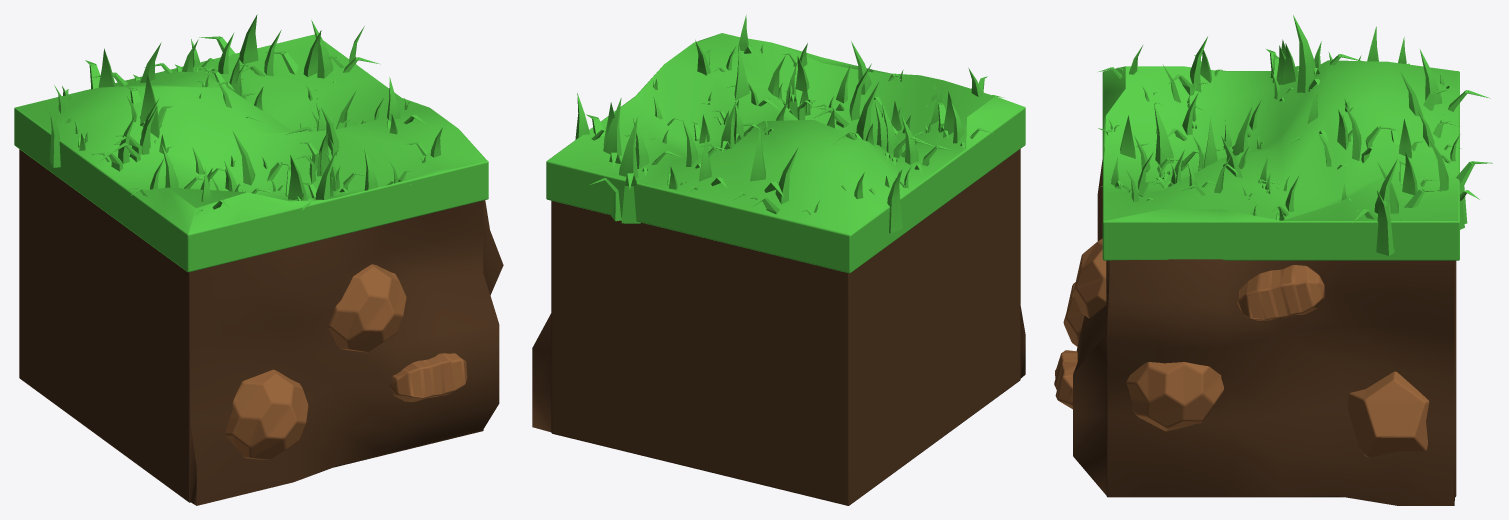
Rendered from kubik.fbx.
The picture shows the model from 3 angles, left to right: view 1: azimuth 30°, elevation 25°; view 2: azimuth 150°, elevation 25°; view 3: azimuth 270°, elevation 25°; orthographic projection. The views are drawn at different scales.
Parts seen in each view (by area): view 1: Cube, Cube_1, Platonic_2, Platonic_4, Capsule_1, Pyramid_3_25, Pyramid_3_74, Pyramid_3_131, Pyramid_3_122, Pyramid_3_27, Pyramid_3_40, Pyramid_3_47 (+1 smaller); view 2: Cube, Cube_1, Pyramid_3_74, Pyramid_3_27, Pyramid_3_122, Pyramid_3_137, Pyramid_3_142, Pyramid_3_110, Pyramid_3_47, Pyramid_3_25, Pyramid_3_38; view 3: Cube, Cube_1, Platonic, Platonic_1, Capsule, Platonic_4, Pyramid_3_25, Capsule_1, Pyramid_3_74, Pyramid_3_83, Pyramid_3_47, Platonic_2 (+8 smaller).
Boxes of the visible parts, <box> form: Cube: <box>19,149,503,505</box>; Cube_1: <box>14,34,488,272</box>; Platonic_2: <box>225,369,308,459</box>; Platonic_4: <box>328,264,406,352</box>; Capsule_1: <box>390,353,467,401</box>; Pyramid_3_25: <box>125,74,171,138</box>; Pyramid_3_74: <box>199,14,258,63</box>; Pyramid_3_131: <box>311,20,380,83</box>; Pyramid_3_122: <box>265,30,321,77</box>; Pyramid_3_27: <box>85,48,128,89</box>; Pyramid_3_40: <box>232,130,288,191</box>; Pyramid_3_47: <box>285,155,333,199</box>; Cube: <box>532,149,1025,505</box>; Cube_1: <box>546,33,1025,273</box>; Pyramid_3_74: <box>589,117,640,223</box>; Pyramid_3_27: <box>748,147,798,214</box>; Pyramid_3_122: <box>603,98,621,168</box>; Pyramid_3_137: <box>868,169,902,233</box>; Pyramid_3_142: <box>730,126,783,201</box>; Pyramid_3_110: <box>901,114,955,173</box>; Pyramid_3_47: <box>811,63,871,127</box>; Pyramid_3_25: <box>832,81,879,144</box>; Pyramid_3_38: <box>725,46,780,124</box>; Cube: <box>1073,160,1456,505</box>; Cube_1: <box>1102,60,1459,260</box>; Platonic: <box>1348,371,1429,457</box>; Platonic_1: <box>1126,362,1223,431</box>; Capsule: <box>1237,265,1324,320</box>; Platonic_4: <box>1073,238,1106,318</box>; Pyramid_3_25: <box>1293,15,1363,92</box>; Capsule_1: <box>1054,350,1077,409</box>; Pyramid_3_74: <box>1426,134,1492,229</box>; Pyramid_3_83: <box>1376,190,1402,255</box>; Pyramid_3_47: <box>1154,103,1203,181</box>; Platonic_2: <box>1063,282,1084,346</box>.
Bounding box in the file's own units: 241 × 228 × 252.
